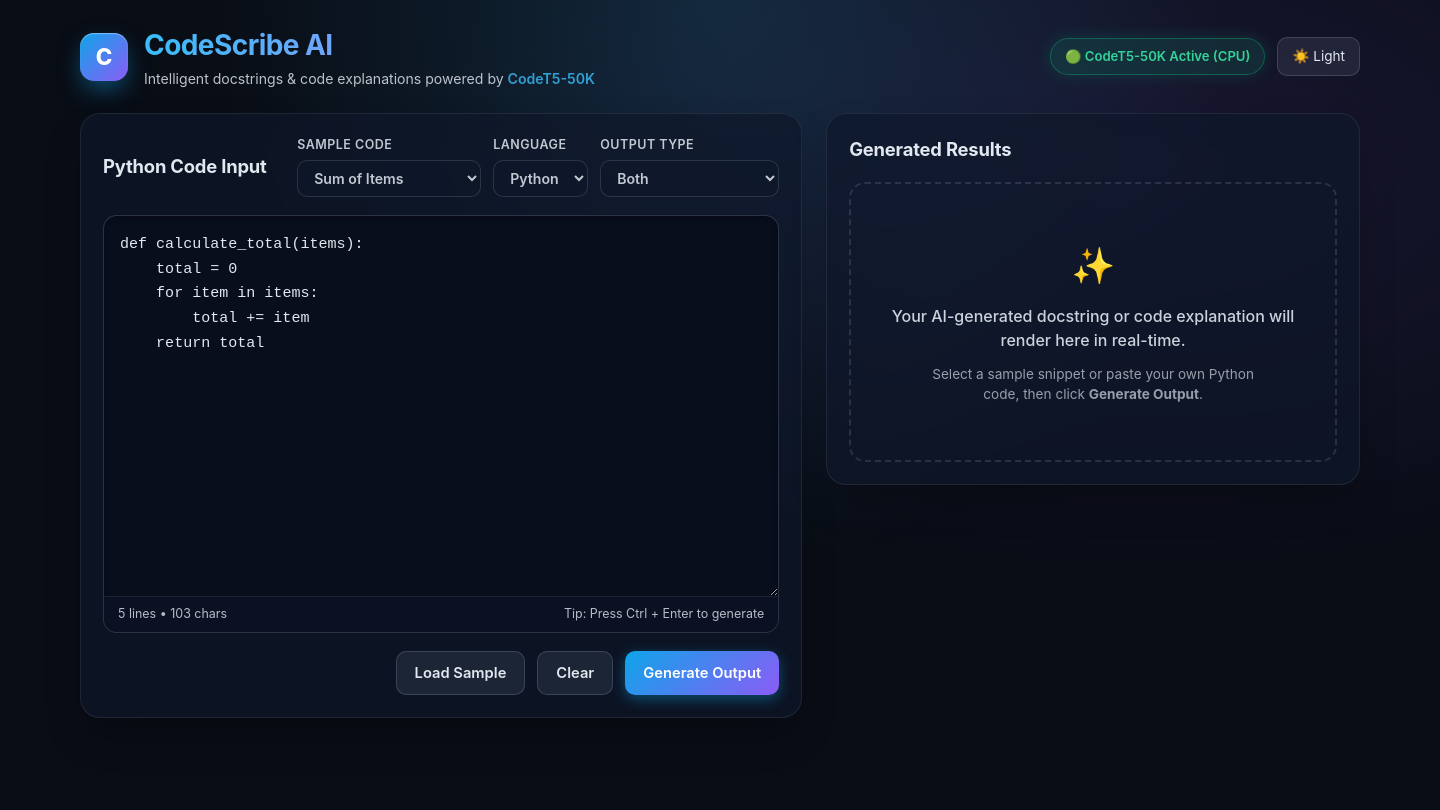
it: CodeScribe AI app › shows validation when trying to generate empty code
The width and height of the screenshot is (1440, 810).
Click the button "Clear". click: (575, 673)
box: [537,650,613,695]
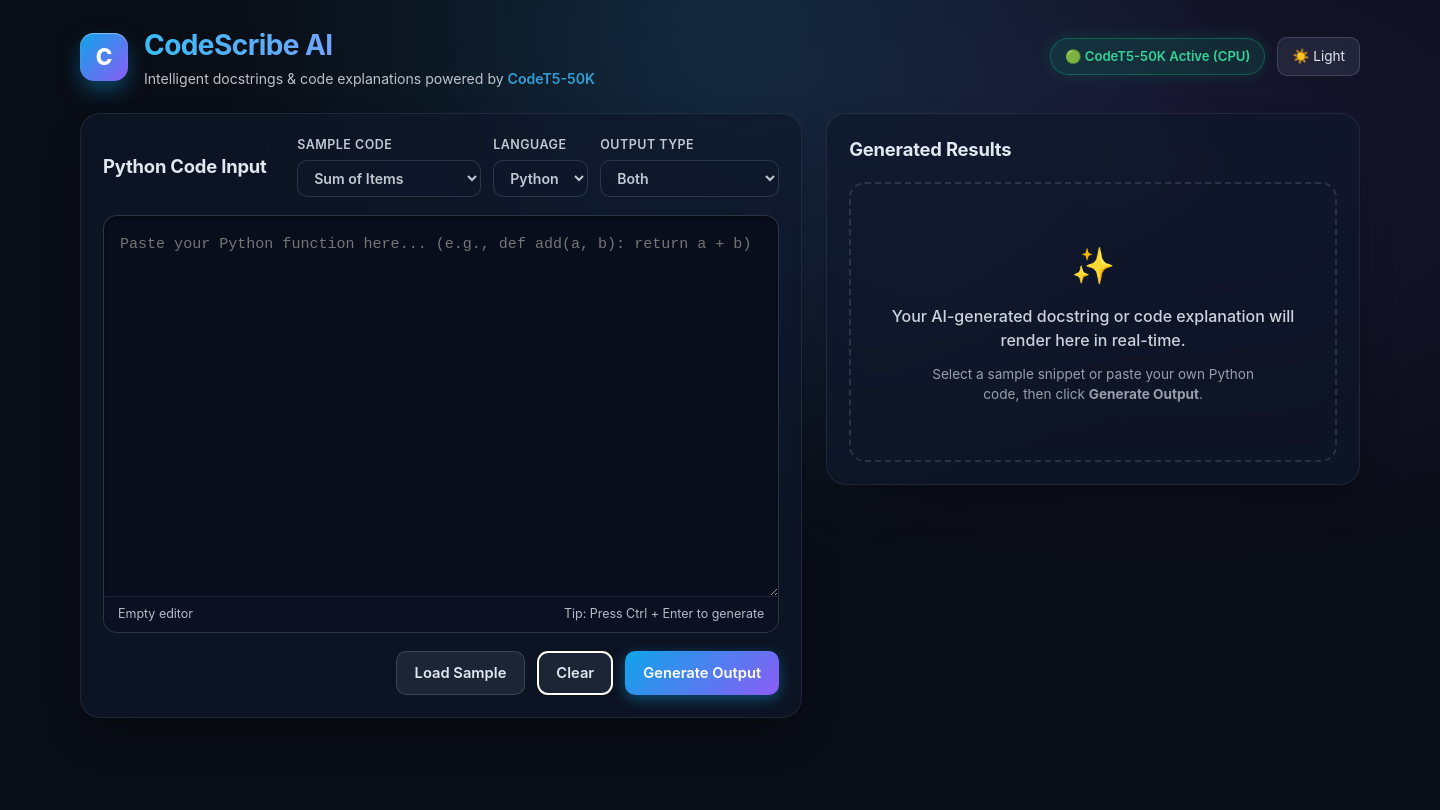
Click the button "Generate Output". click: (702, 673)
box: [625,650,779,695]
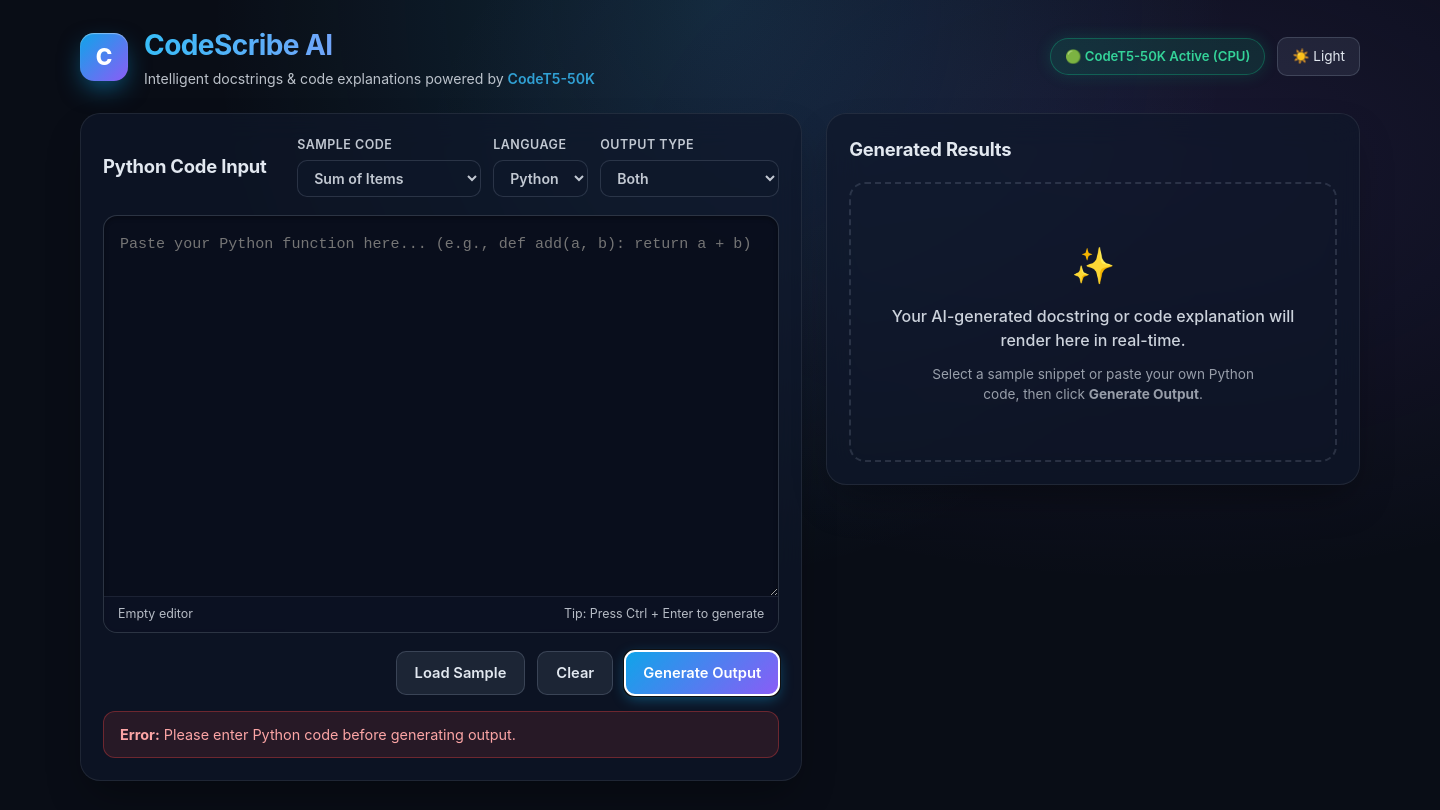
Expected: the text "Please enter Python code before generating output." is shown, [164,726,516,743]
